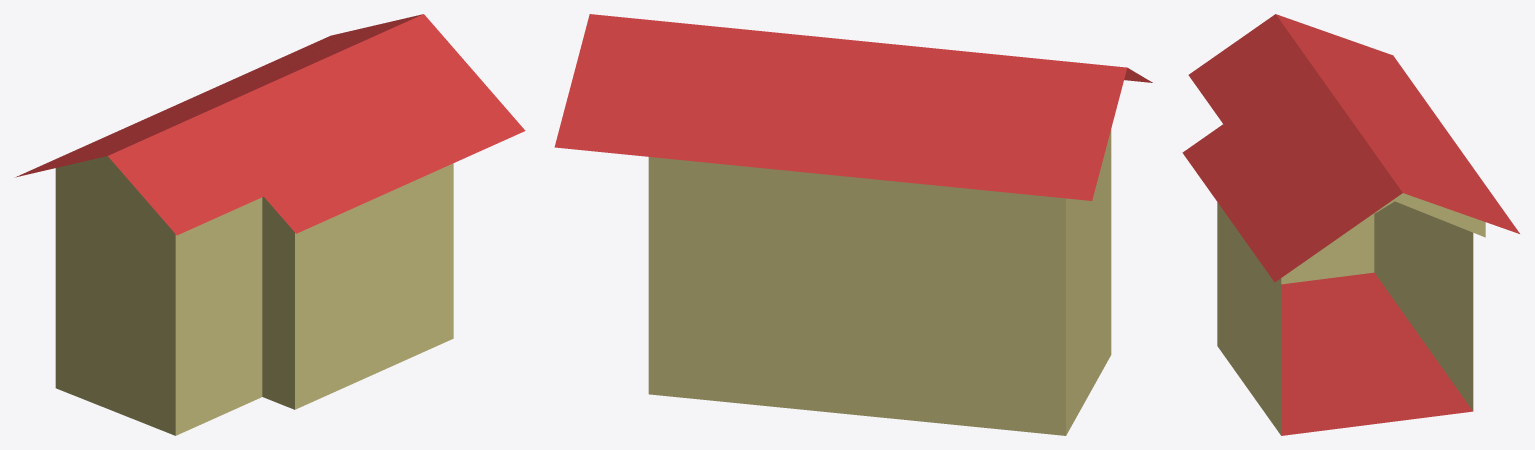
3 views of the same model, side by side, from view 1: azimuth 30°, elevation 25°; view 2: azimuth 150°, elevation 25°; view 3: azimuth 270°, elevation 25° (orthographic). The views are drawn at different scales.
Size of the model in its own units: 17.7 by 12.03 by 10.16.
